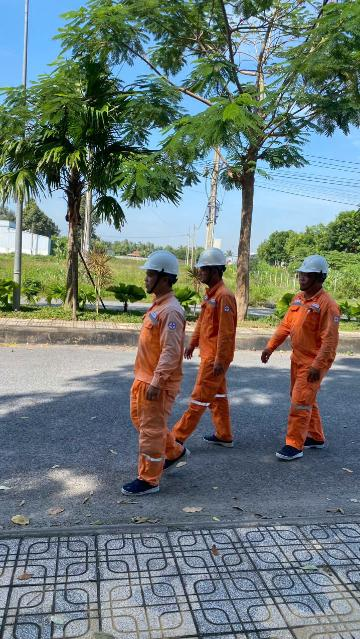helmet: (138, 251, 184, 278), (191, 244, 228, 271), (293, 254, 335, 276)
shoes: (114, 471, 166, 500), (196, 425, 238, 451), (291, 428, 337, 451), (159, 446, 192, 472), (269, 441, 309, 461), (173, 429, 182, 460)
